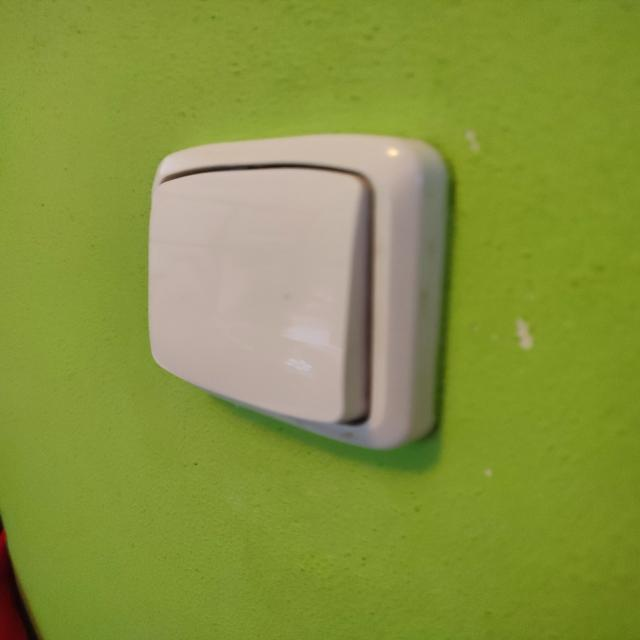house switch: (147, 135, 450, 451)
